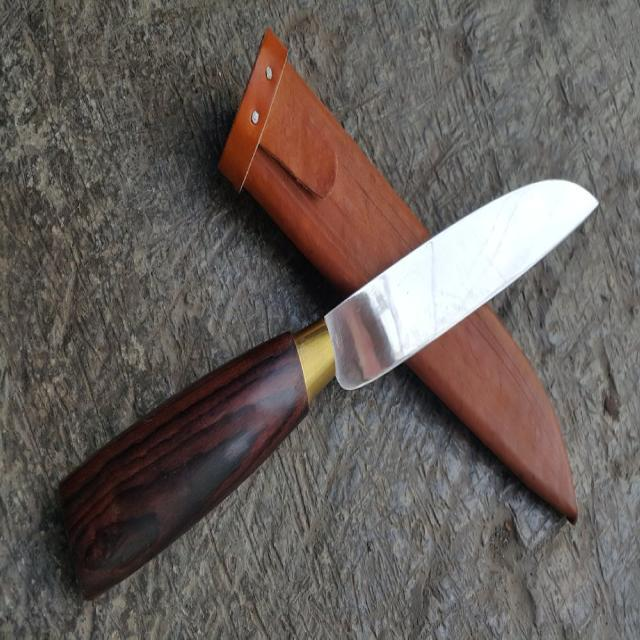Pisau: (49, 170, 609, 620)
